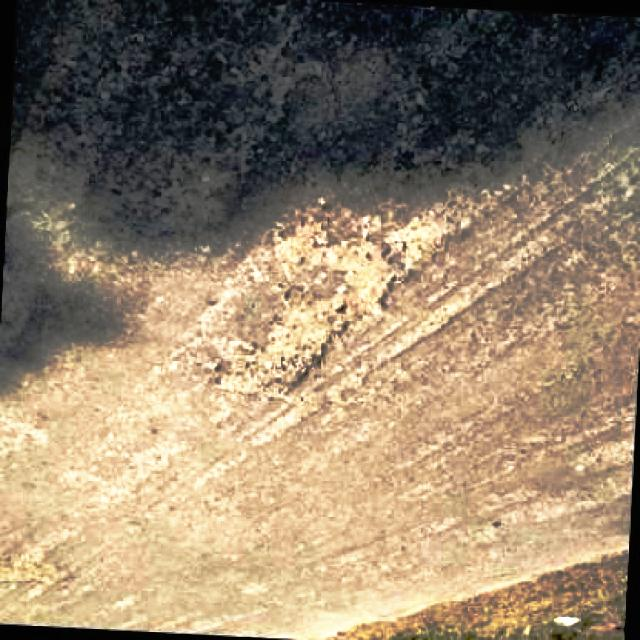pothole: (206, 211, 403, 392)
